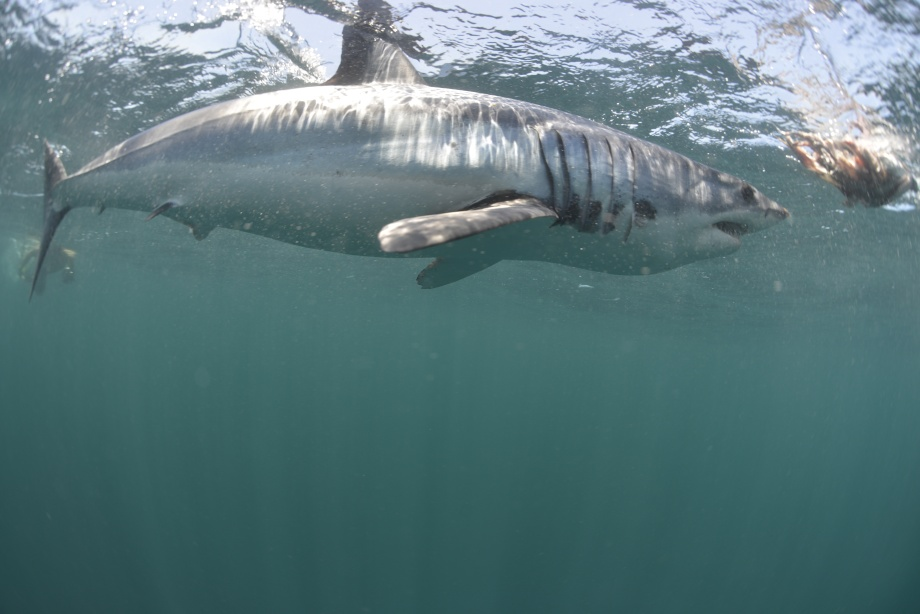Mako: (21, 20, 782, 304)
